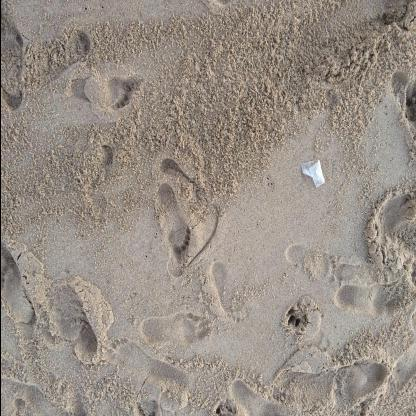plastik: (299, 160, 325, 188)
